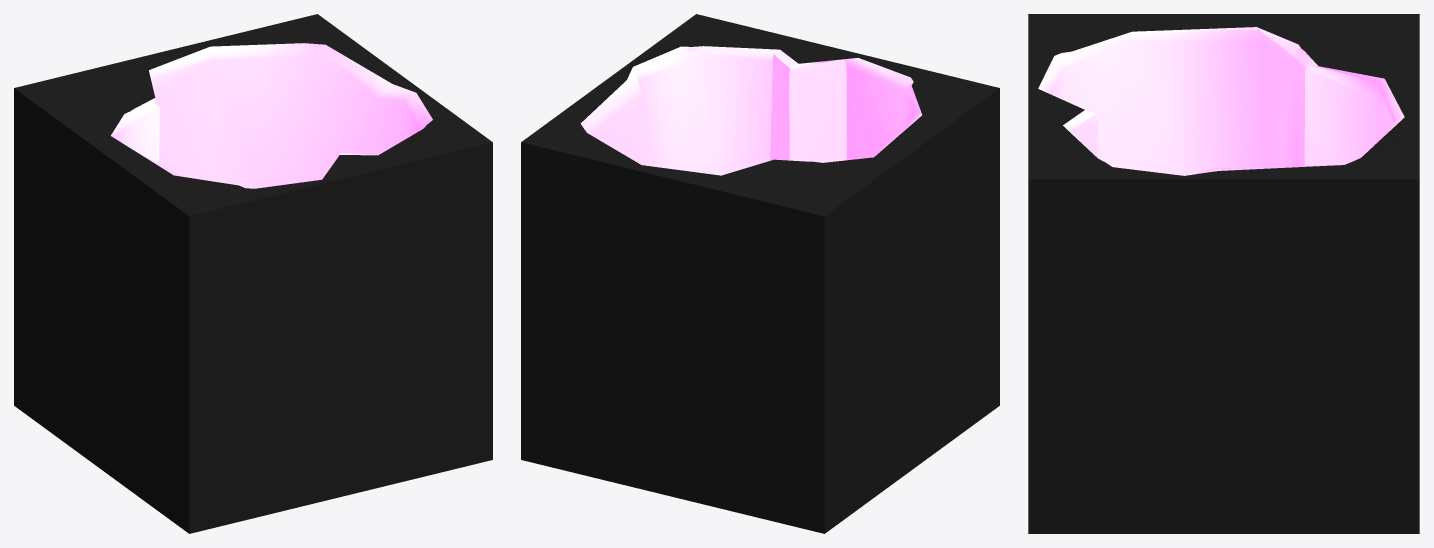
The model's file is Hole.FBX.
3 renders of one model, left to right at view 1: azimuth 30°, elevation 25°; view 2: azimuth 150°, elevation 25°; view 3: azimuth 270°, elevation 25°, orthographic. The views are drawn at different scales.
Parts seen in each view (by area): view 1: Box055; view 2: Box055; view 3: Box055.
Part boxes in pixels (<box>): Box055: <box>14,14,492,533</box>; Box055: <box>521,14,999,533</box>; Box055: <box>1028,14,1419,533</box>.
Bounding box in the file's own units: 300 × 300 × 300.
